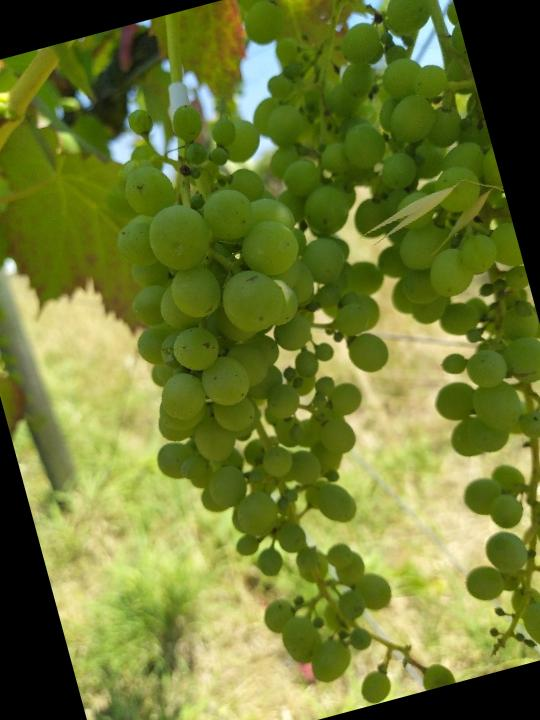grape: (64, 58, 487, 720)
